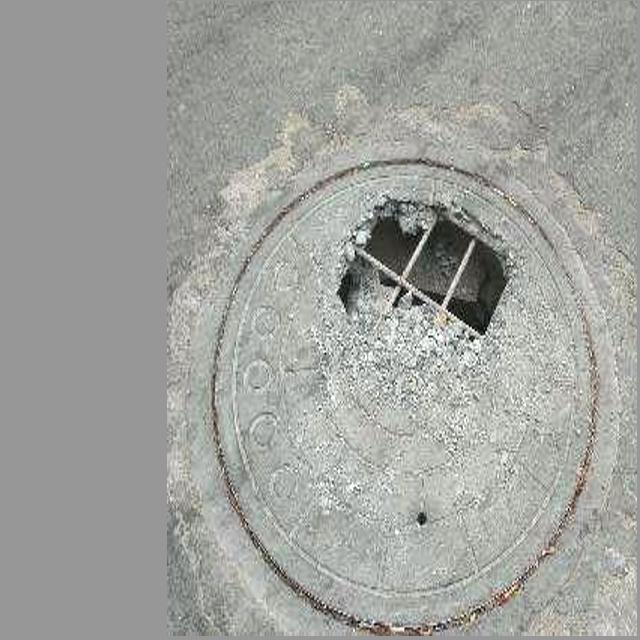broke: (212, 158, 612, 631)
